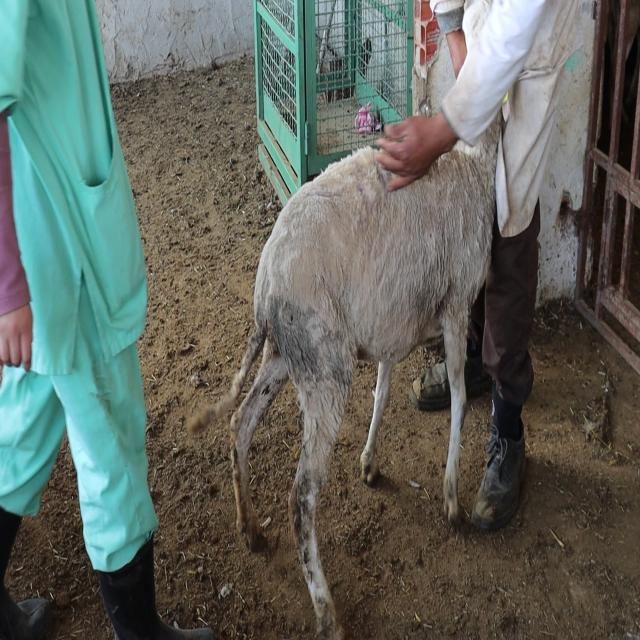Score_1: (188, 120, 500, 639)
